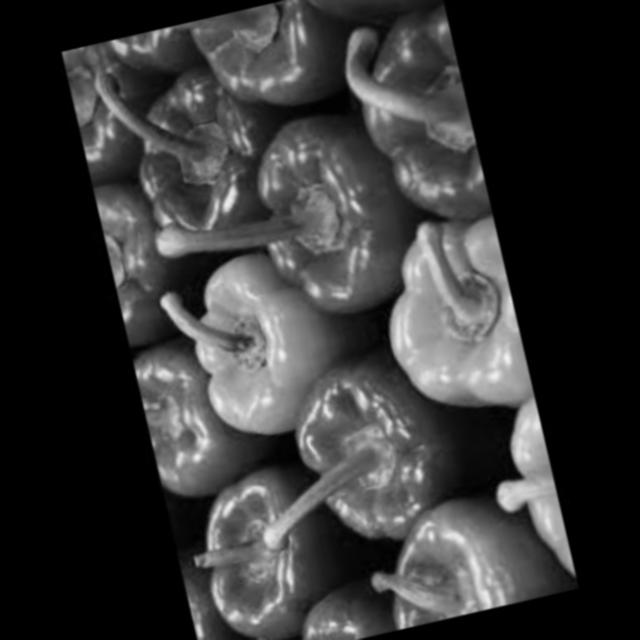bell pepper: (156, 226, 404, 456), (271, 340, 505, 560), (227, 94, 436, 338), (356, 203, 534, 425), (327, 0, 491, 240), (105, 52, 288, 264), (166, 447, 367, 640), (354, 485, 578, 635), (123, 302, 274, 504), (169, 0, 360, 139), (458, 393, 574, 589), (60, 29, 192, 200), (88, 157, 199, 350), (294, 0, 447, 57), (92, 22, 205, 98)
